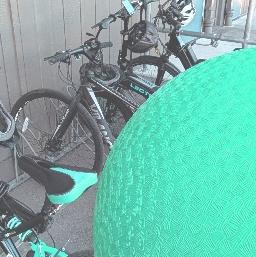algae: (98, 39, 256, 257)
